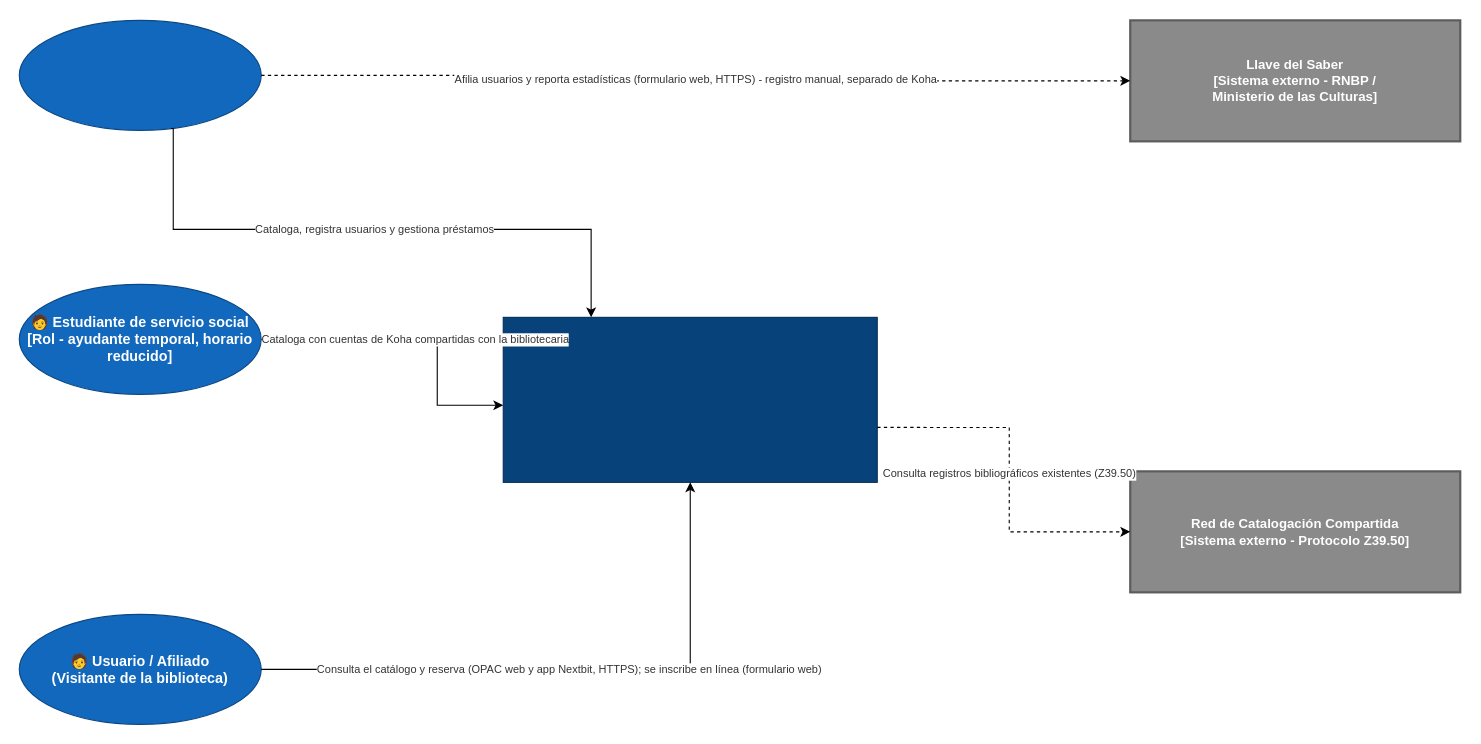
Some shapes in this 1481 by 744 pixel diagram are drawn without their labels. Each missing label, with the centre of its shape:
Sistema de Gestión Biblioteca Rubiel Valencia Cossio [Sistema en alcance]: the point at 689,399
🧑 Bibliotecaria [Rol - única empleada]: the point at 139,74
